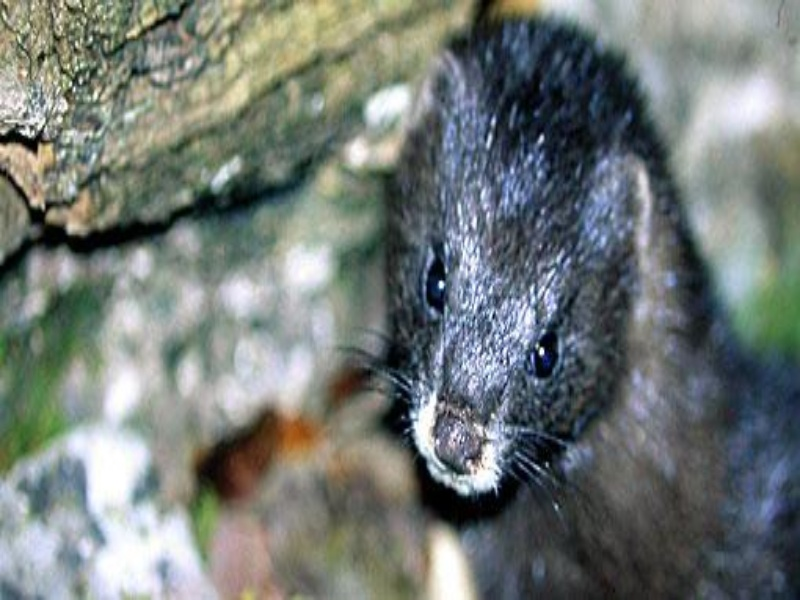minkish: (385, 11, 794, 596)
